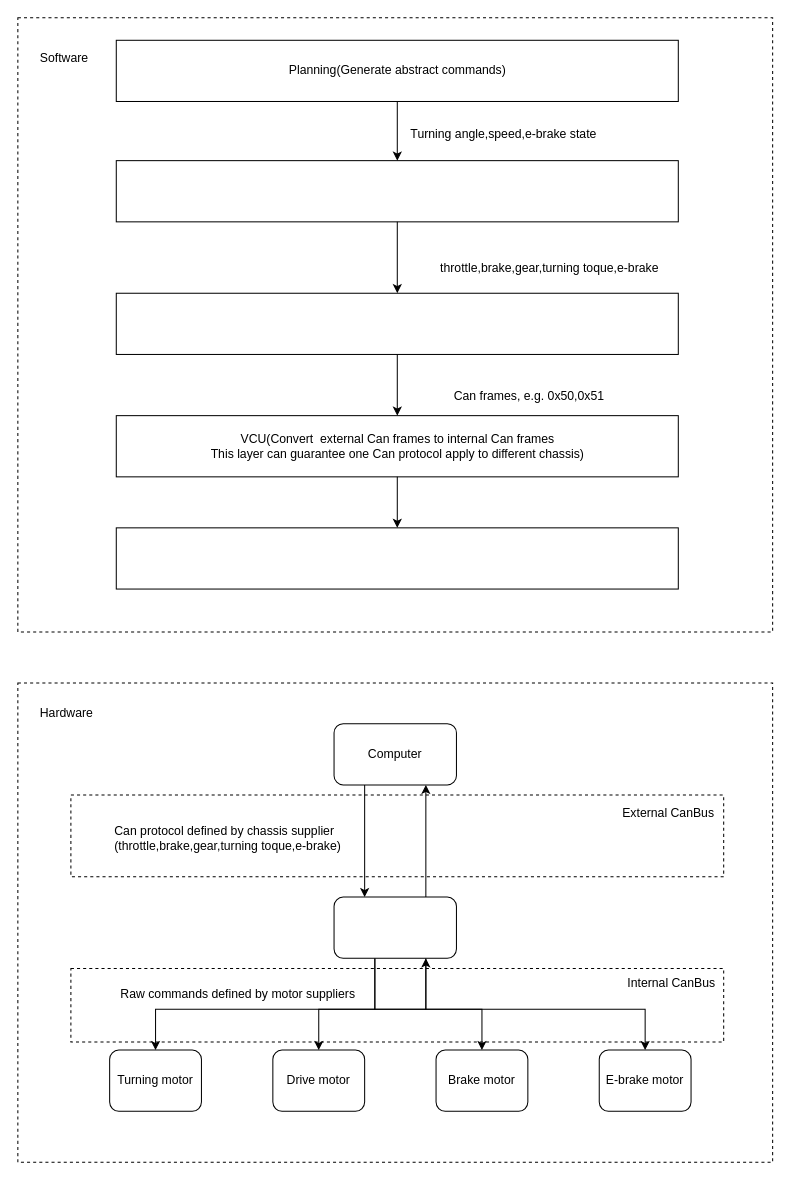
This 791x1180 diagram has some shape labels left out. The centre of each missing label's shape, as x and y in pixels:
"Chassis(Convert specific commands to Can frames depend on Can protocol)" goes at [396,323].
"Control(Convert abstract commands to specific commands)" goes at [396,191].
"Motor driver(Convert internal Can frames data to output motor current)" goes at [396,558].
"Vehicle control unit" goes at [394,927].
